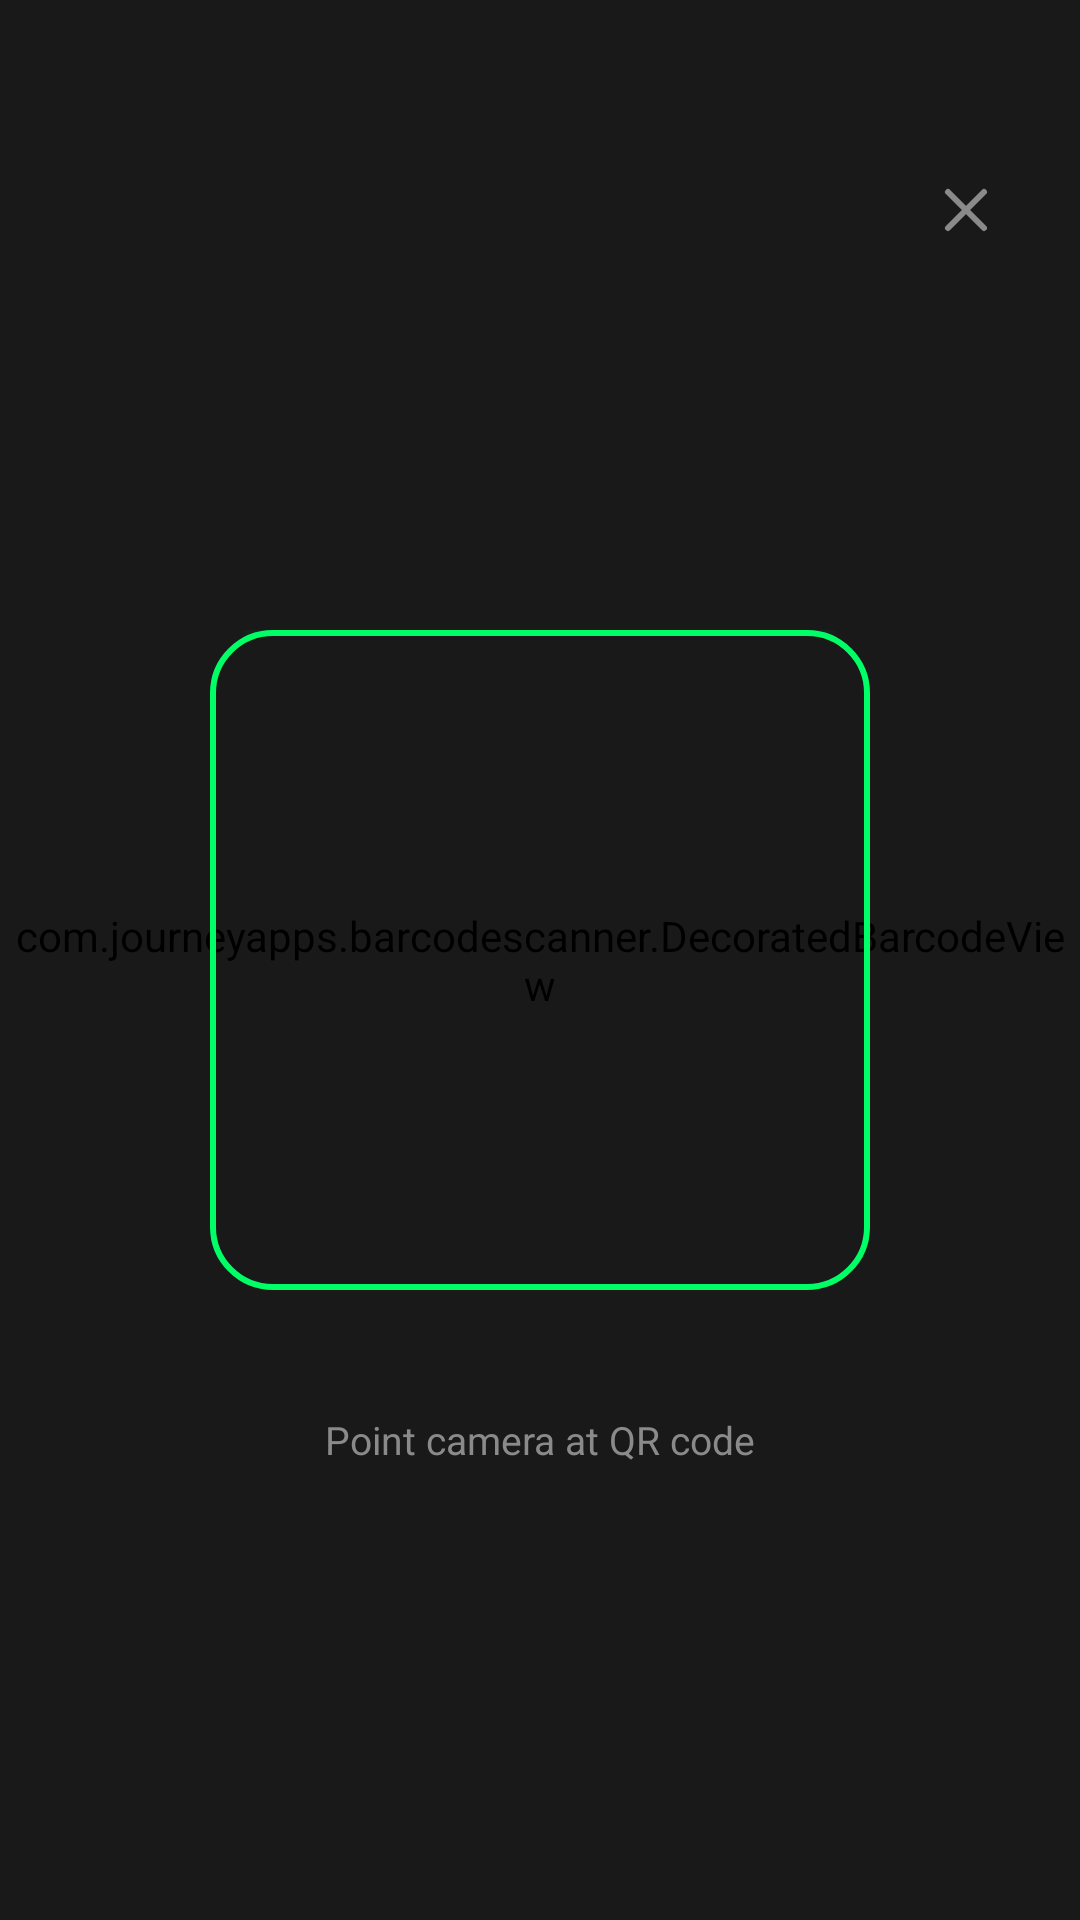

Where to tap for icons on this 1080×1920 app screen, as (x=x, y=y):
Close scanner: (x=966, y=210)
